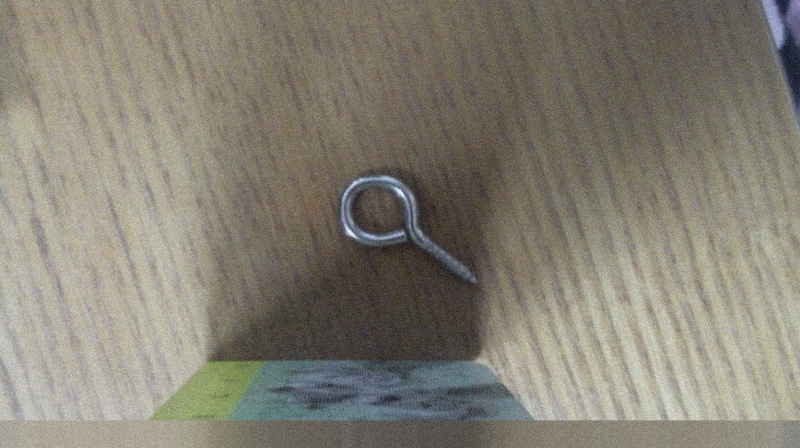O001: (334, 169, 483, 291)
